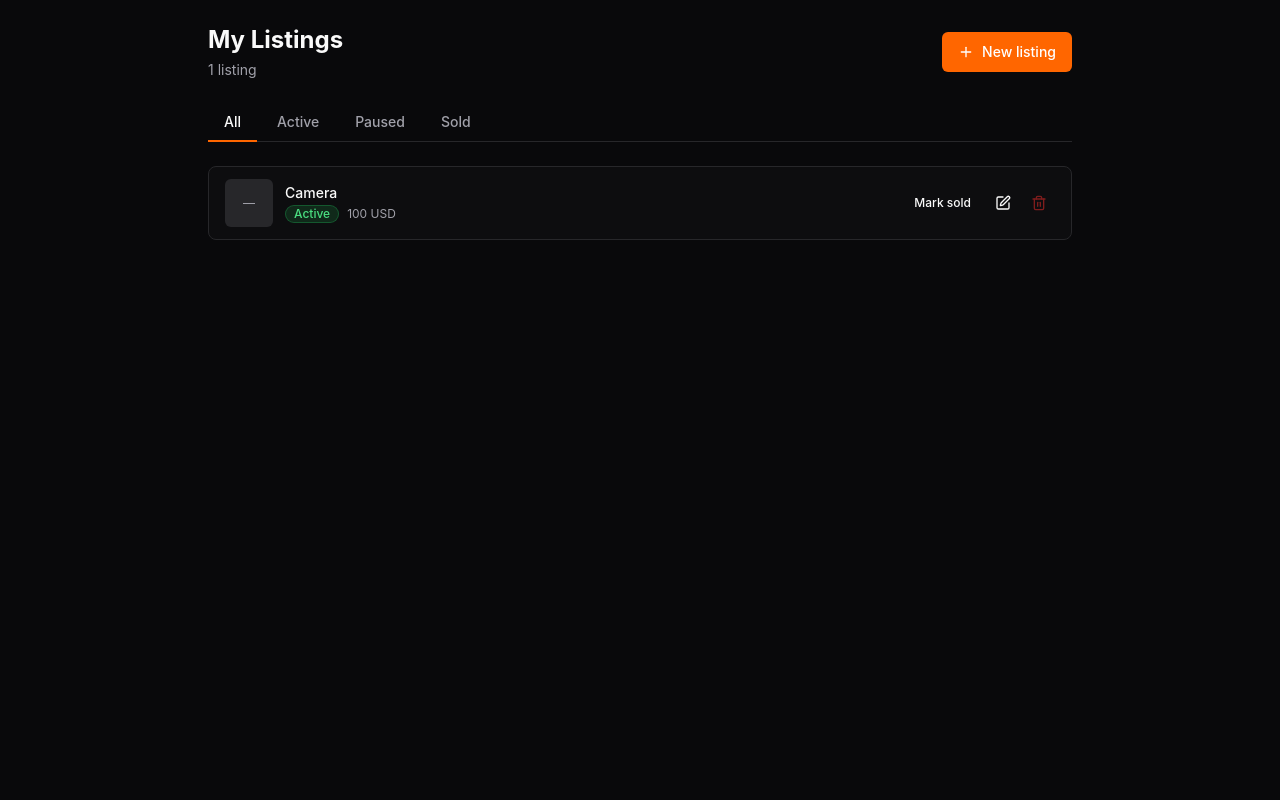
Test: MyListingsDashboard — delete flow › opens delete dialog when Delete clicked
The width and height of the screenshot is (1280, 800).
Click the button named "delete camera" at coordinates (1039, 203), box 1023,187 -> 1055,219
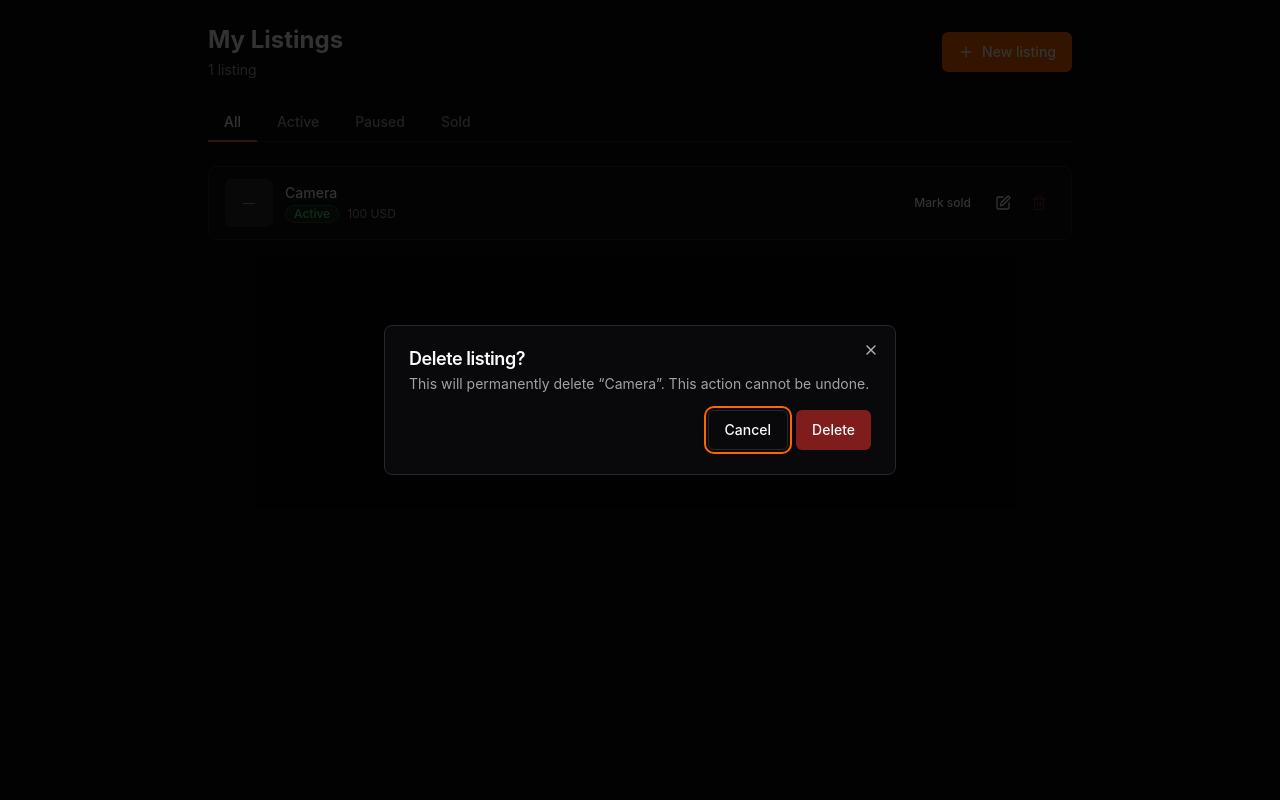
Check: the dialog is shown, box 384,325 -> 896,475
